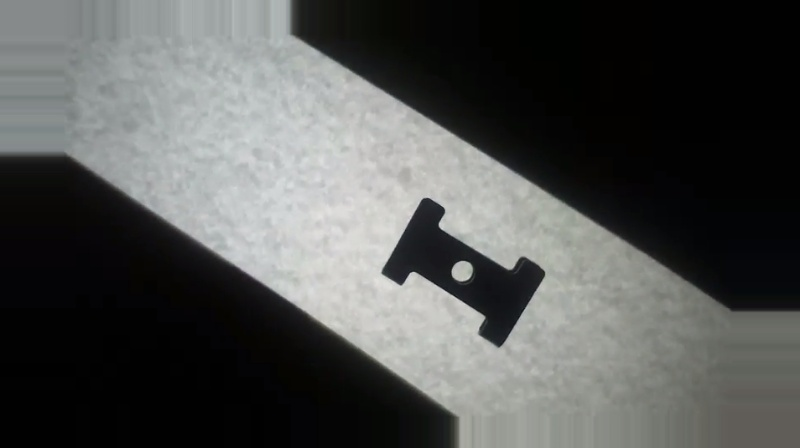O002: (376, 195, 547, 348)
